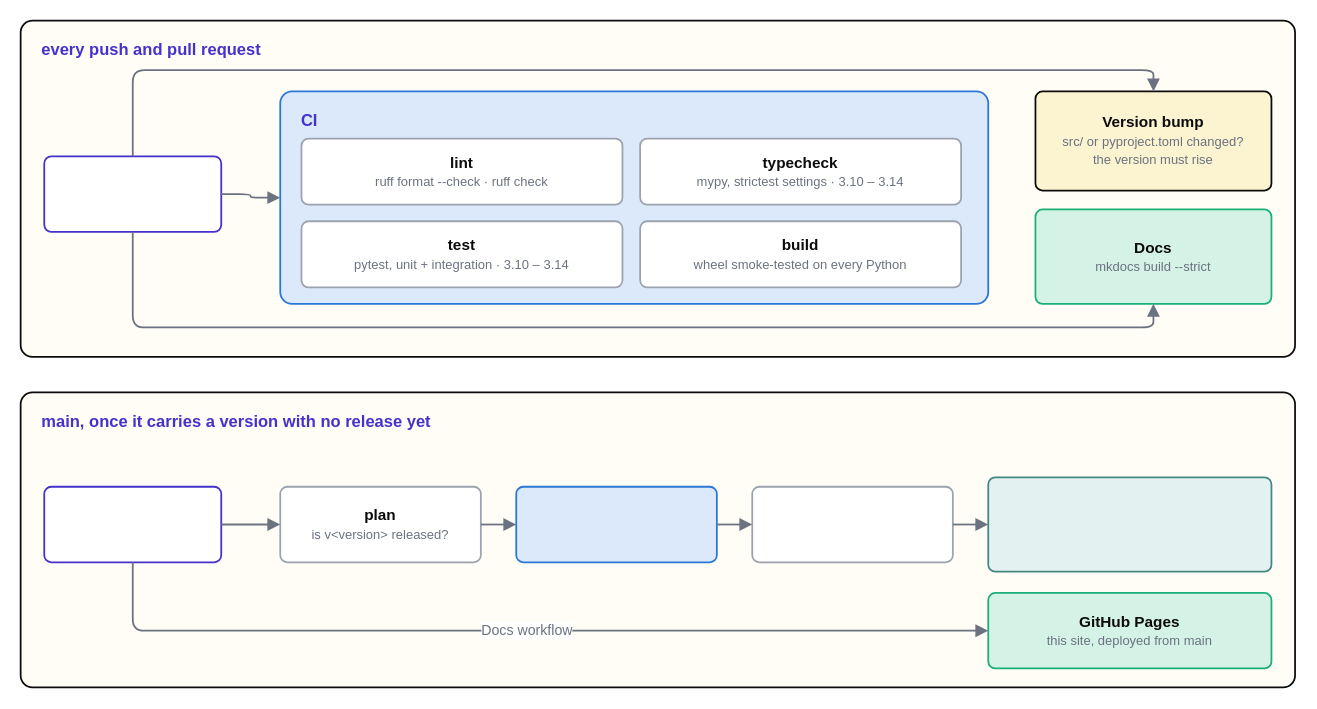
The diagram is 1317 pixels wide and 709 high, and some of its shapes have lost their labels. The shapes that lost their labels are listed below. From the top down, each one's centre as x and y in pixels, then its label:
the point at 132,193: git push or pull request
the point at 132,524: merge to main
the point at 616,524: CI the same workflow, reused
the point at 852,524: build sdist + universal wheel
the point at 1129,524: GitHub release v<version> wheel · sdist · install.sh
